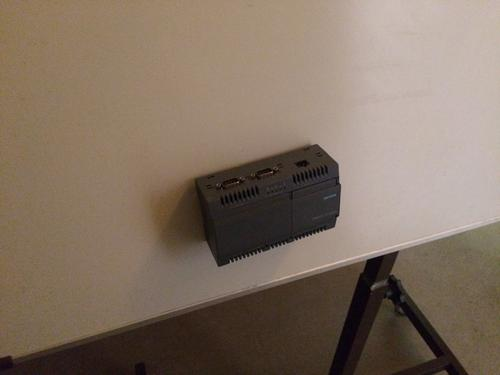iot2000: (193, 142, 341, 268)
